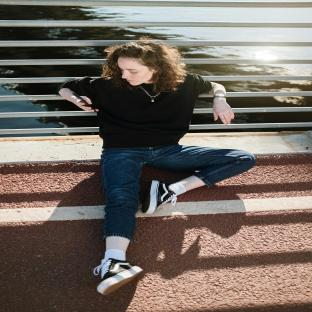Human: (58, 37, 256, 294)
